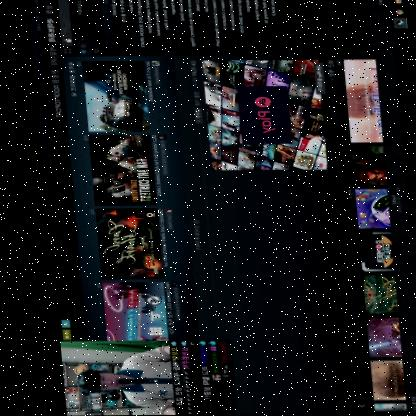streamer: (64, 345, 167, 416)
